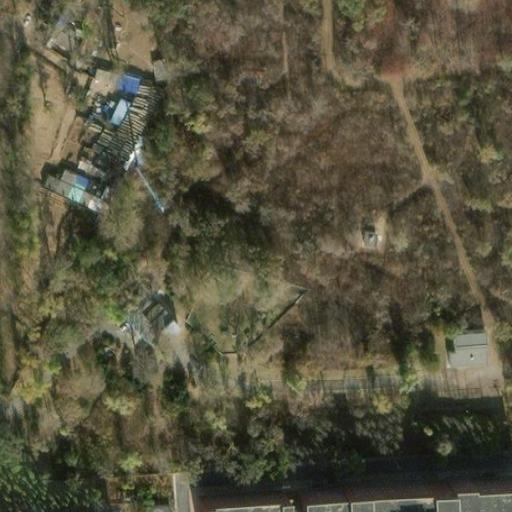building: (294, 481, 512, 512), (38, 157, 94, 203), (444, 324, 491, 366), (192, 491, 279, 512), (81, 61, 130, 95), (149, 53, 171, 80)
